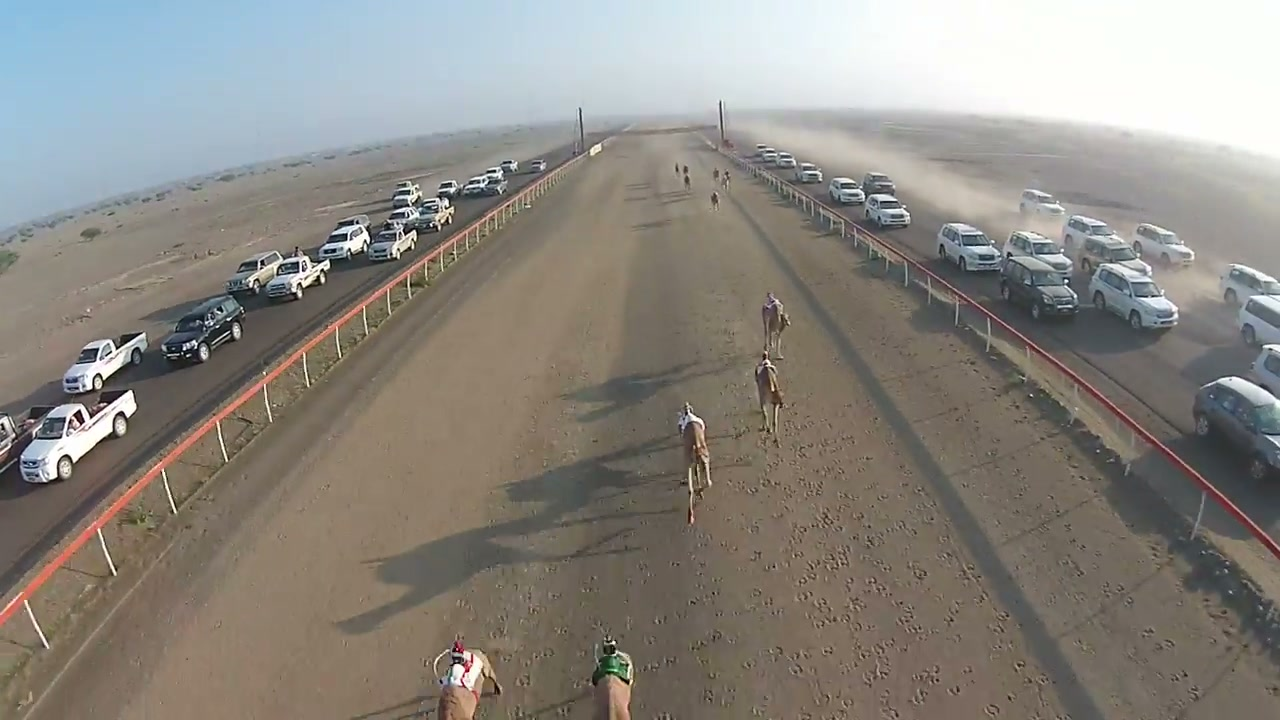animal_foot_print: (626, 422, 1053, 708)
